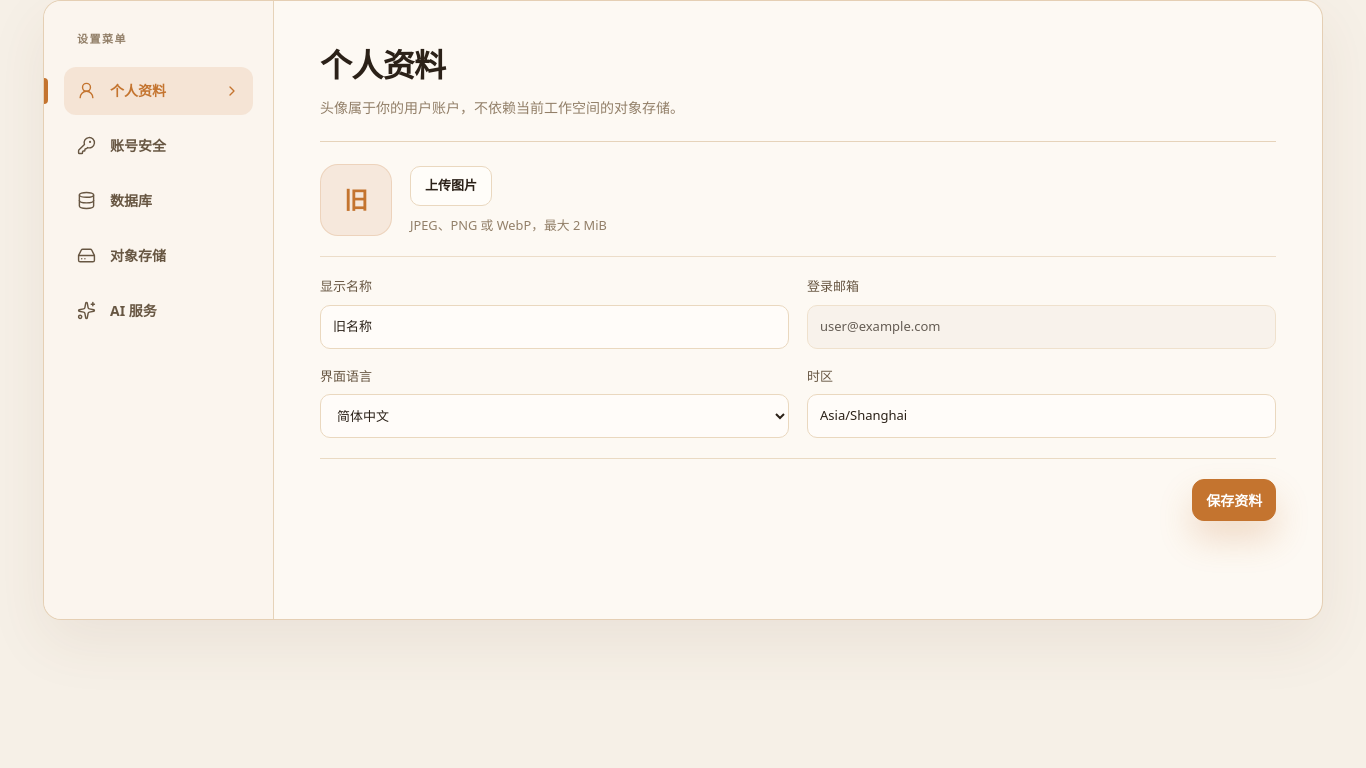
Scenario: Settings › offers direct SenseVoice and FunASR transcription providers
Expected: the heading "个人资料" is shown, 320,43 -> 446,86
Click the button "AI 服务" at [158, 310], box 64,286 -> 253,334
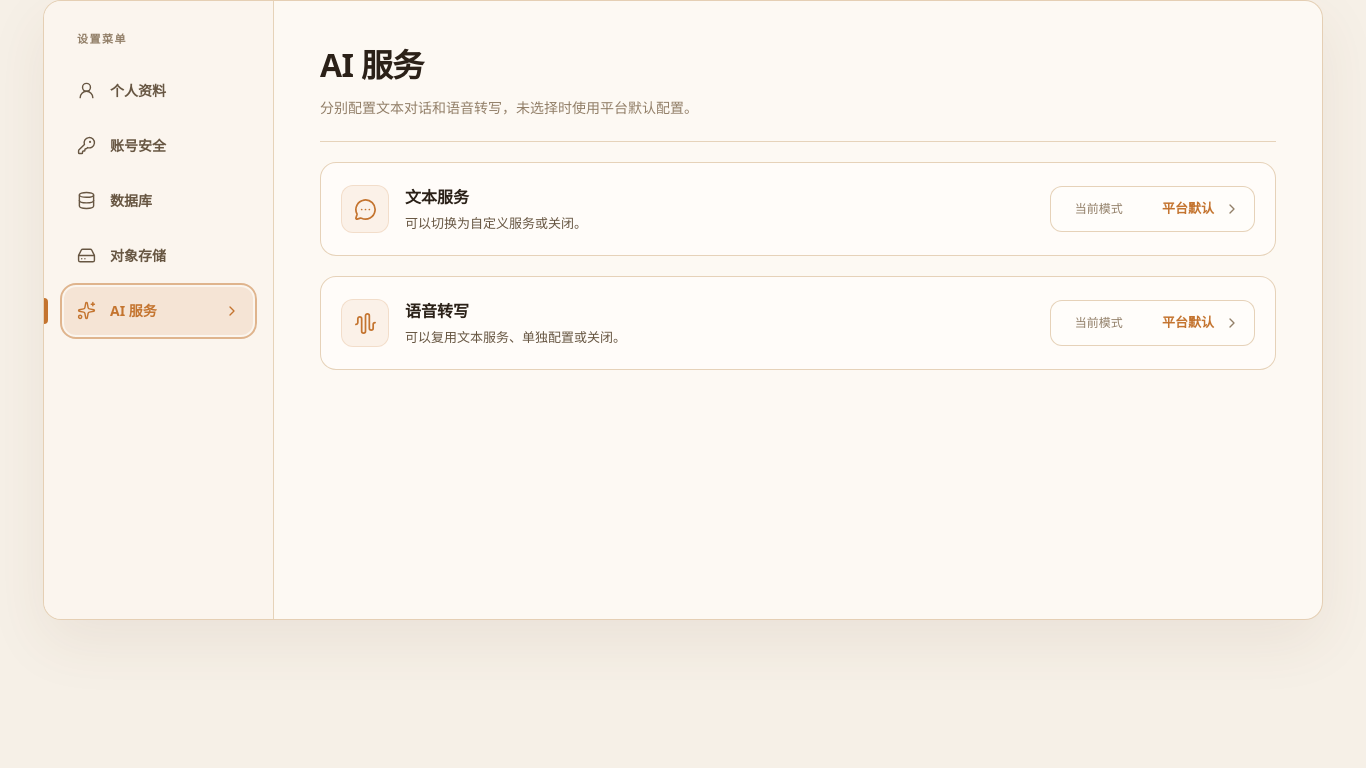
Click the button with aria-label "语音转写模式：平台默认" at [1152, 323], box 1050,300 -> 1255,346
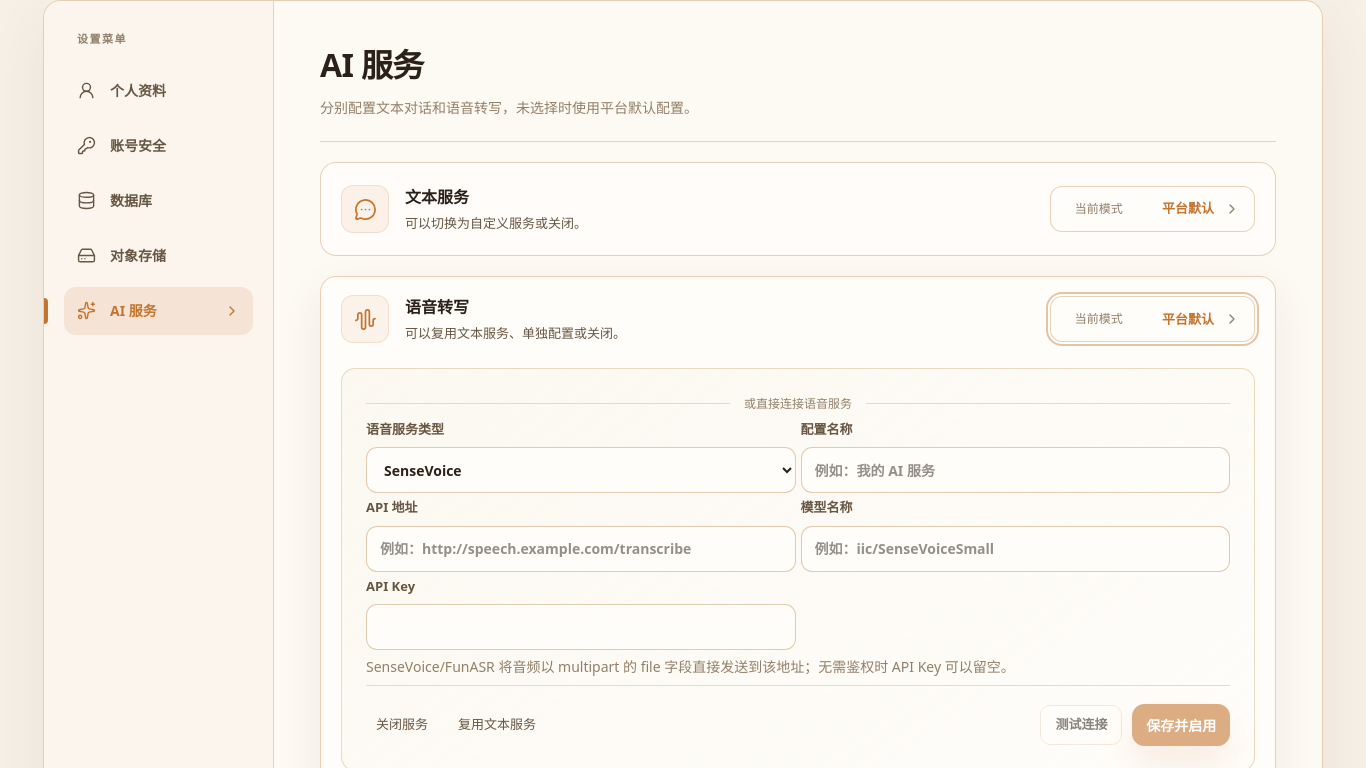
Expected: the dropdown labelled "语音服务类型" shows "SenseVoice"
Expected: the field with placeholder "例如：iic/SenseVoiceSmall" is shown, 800,526 -> 1230,572
Select "FunASR" in the dropdown labelled "语音服务类型" at [581, 470], box 366,447 -> 796,493
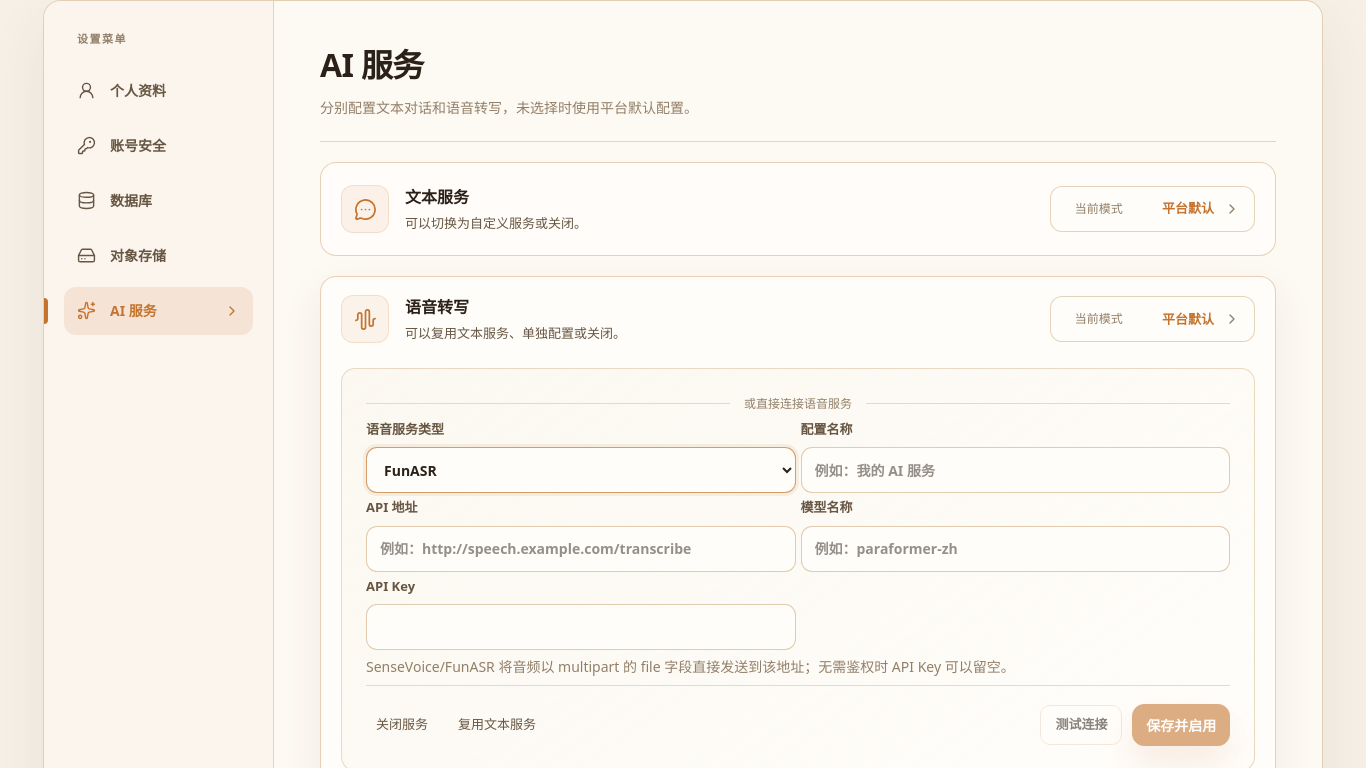
Expected: the text "multipart" is shown, 366,657 -> 1015,676
Expected: the field with placeholder "例如：paraformer-zh" is shown, 800,526 -> 1230,572
